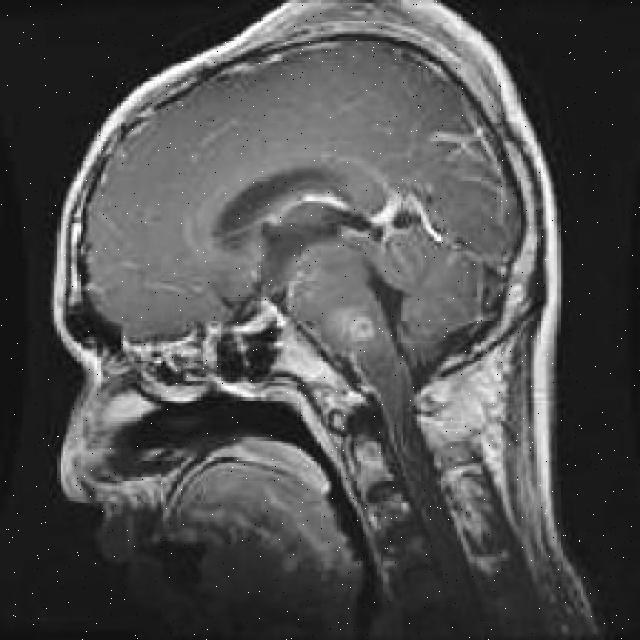MCI: (303, 250, 423, 334)
